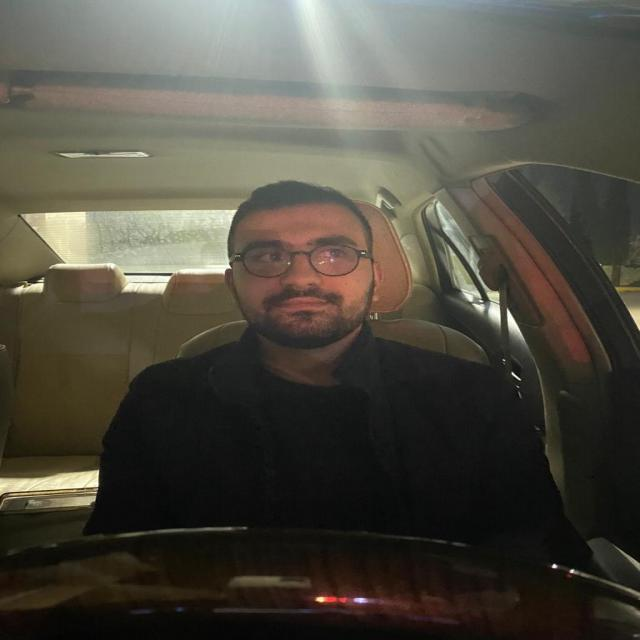person: (208, 188, 384, 353)
